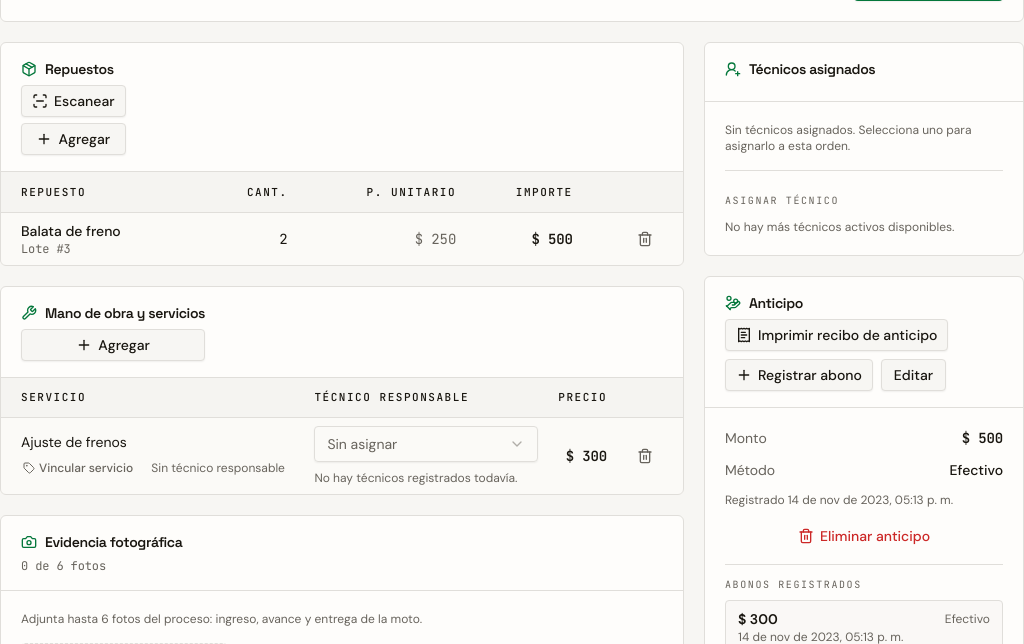
Test: OrderDetailPage abonos y recibo de anticipo (cover) › still rejects a positive abono once the order is fully paid
The image size is (1024, 644).
(page scrolled)
Click the button with test id "order_detail.advance.add_payment_button".
click(799, 375)  # box x1=725 y1=359 x2=873 y2=391
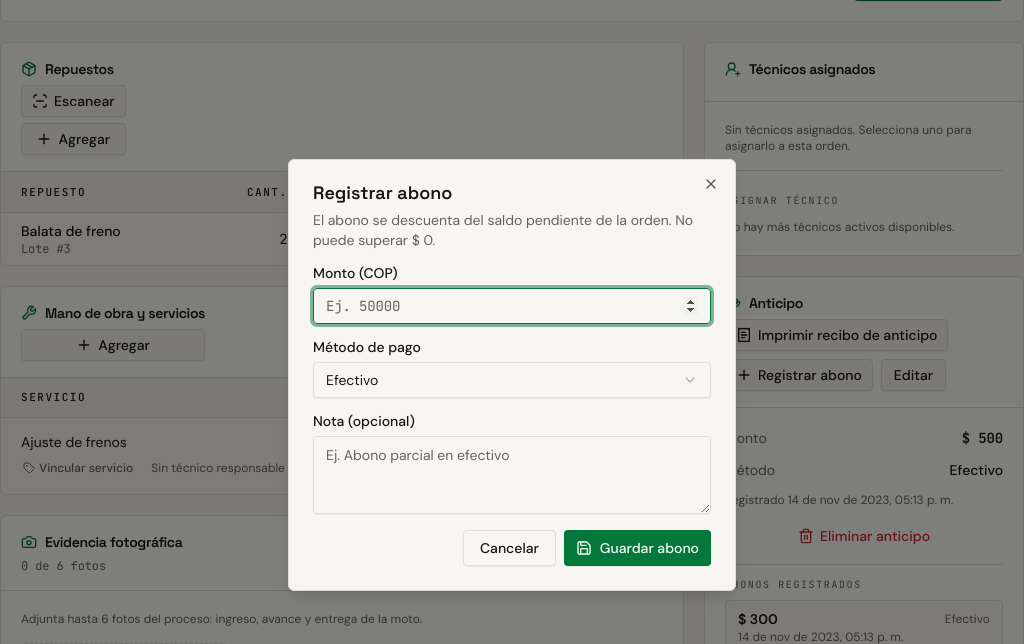
Type "100" into the number field with test id "order_detail.payment_dialog.amount_input".
click(512, 306); type("100")  # box x1=313 y1=288 x2=711 y2=324
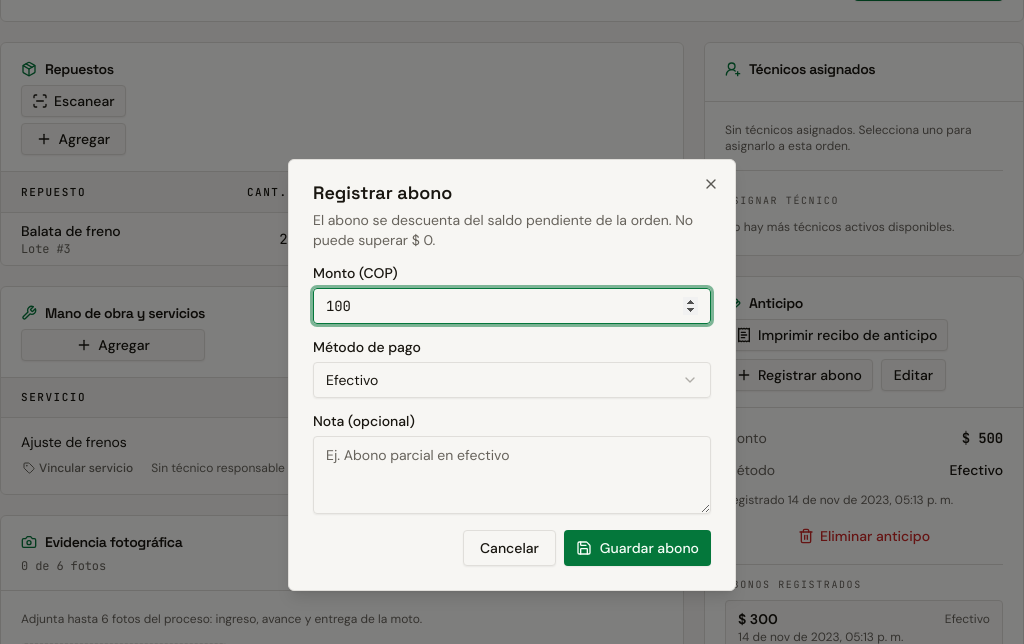
Click the button with test id "order_detail.payment_dialog.save_button".
click(637, 548)  # box x1=564 y1=530 x2=711 y2=566
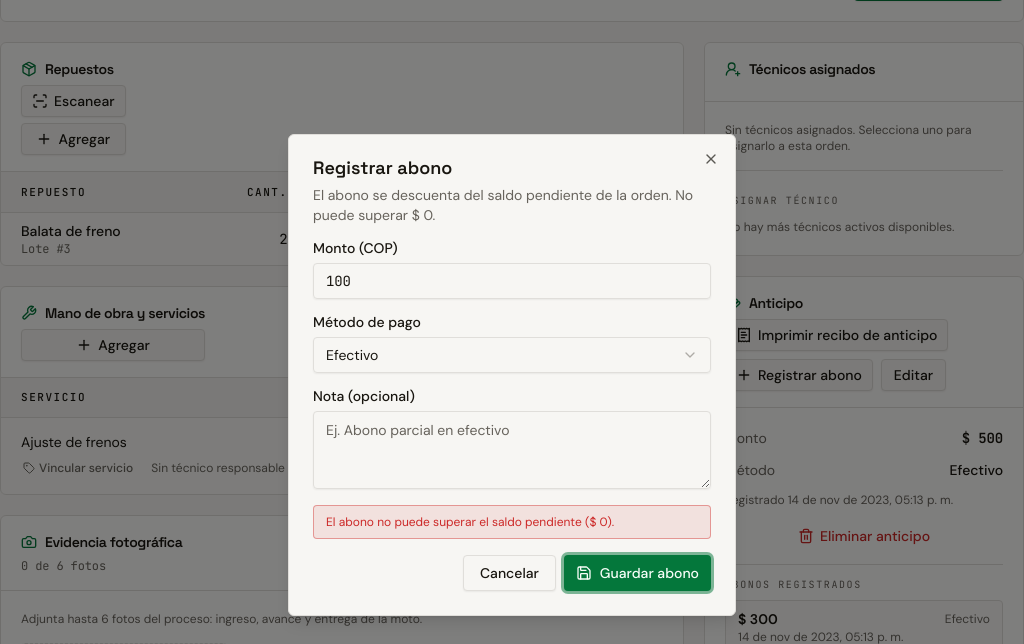
Result: the text with test id "order_detail.payment_dialog.error_state" shows "El abono no puede superar el saldo pendiente" at x1=326 y1=514 x2=614 y2=530
